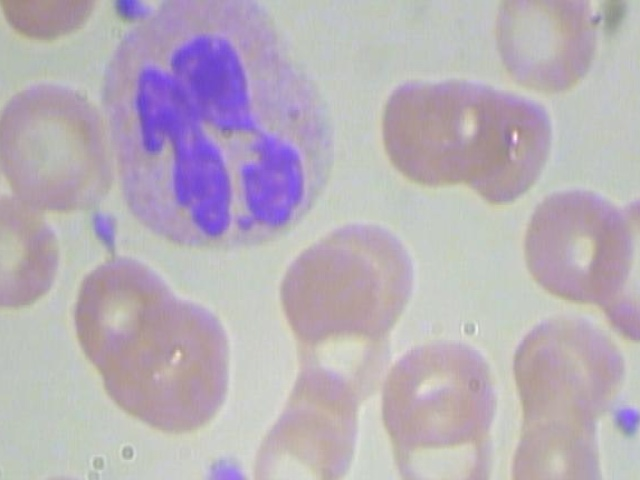Platelets: (79, 206, 124, 256), (604, 401, 640, 442), (102, 0, 155, 27), (202, 452, 253, 480)
RBC: (373, 324, 502, 449), (63, 252, 177, 376), (519, 181, 633, 304), (0, 81, 110, 204), (368, 77, 483, 192), (279, 240, 397, 347), (490, 0, 604, 93), (580, 184, 640, 346), (387, 405, 502, 480), (0, 0, 107, 42)
WBC: (96, 0, 362, 253)
